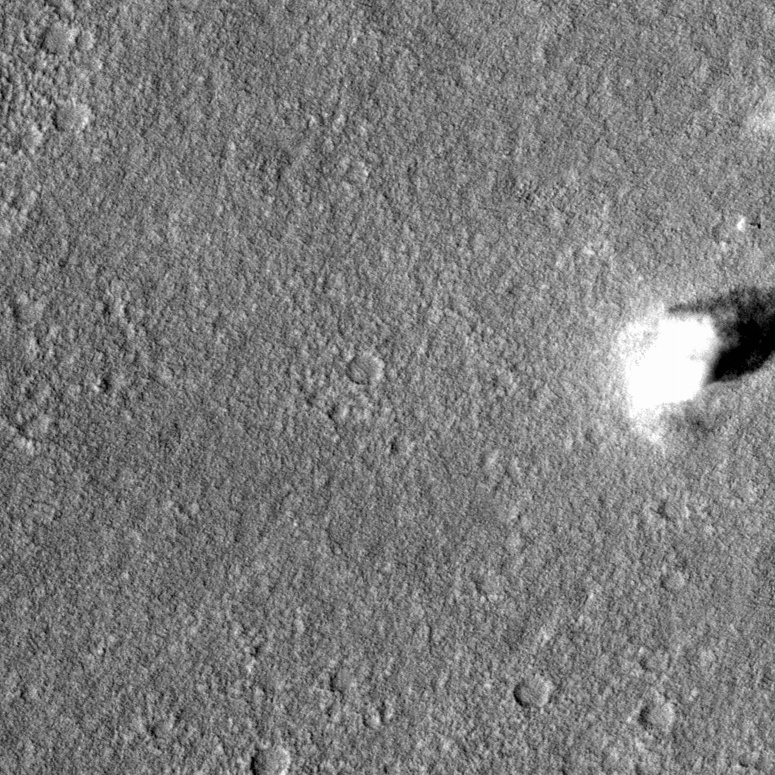dust_devil: (608, 282, 775, 452)
